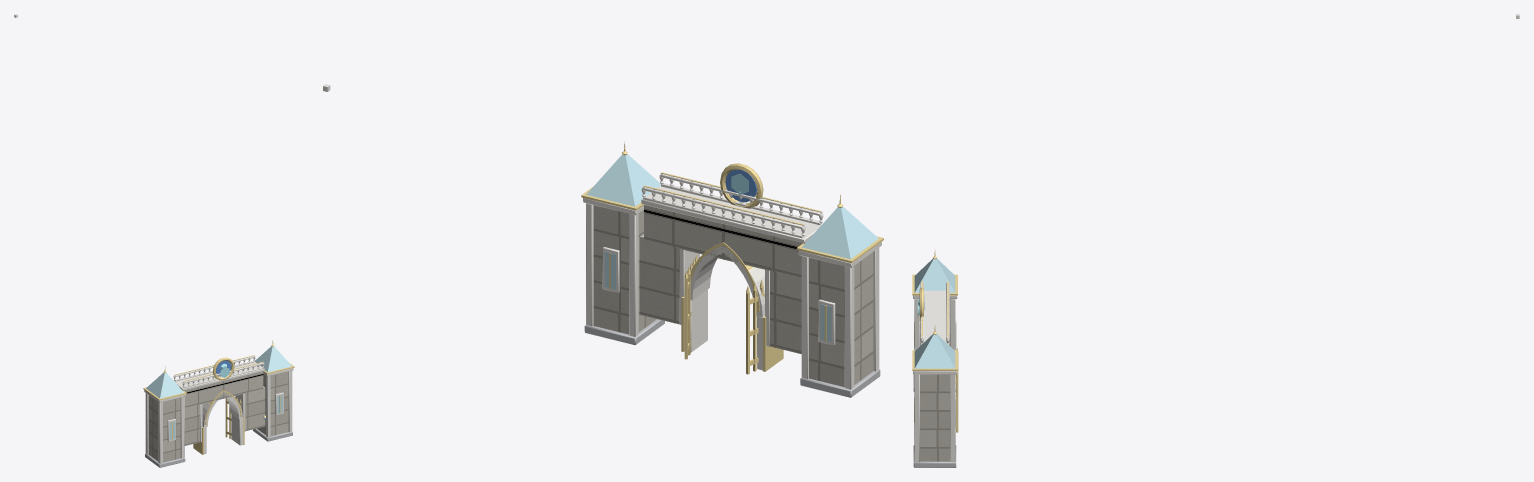
Rendered from LV_PORTAO.fbx.
3 renders of one model, left to right at view 1: azimuth 30°, elevation 25°; view 2: azimuth 150°, elevation 25°; view 3: azimuth 270°, elevation 25°, orthographic. The views are drawn at different scales.
Parts seen in each view (by area): view 1: STONE__portao, MARB__portao, GLASS__portao, GOLD__portao, TRIM__portao; view 2: STONE__portao, MARB__portao, GLASS__portao, GOLD__portao, TRIM__portao; view 3: MARB__portao, STONE__portao, GLASS__portao, GOLD__portao.
Boxes of the visible parts, x1=… form: STONE__portao: x1=148, y1=371, x2=288, y2=462; MARB__portao: x1=144, y1=355, x2=293, y2=463; GLASS__portao: x1=146, y1=346, x2=291, y2=439; GOLD__portao: x1=143, y1=340, x2=294, y2=454; TRIM__portao: x1=145, y1=428, x2=292, y2=467; STONE__portao: x1=593, y1=205, x2=873, y2=386; MARB__portao: x1=583, y1=172, x2=881, y2=389; GLASS__portao: x1=586, y1=154, x2=878, y2=342; GOLD__portao: x1=581, y1=141, x2=883, y2=374; TRIM__portao: x1=584, y1=319, x2=880, y2=397; MARB__portao: x1=913, y1=281, x2=957, y2=462; STONE__portao: x1=920, y1=299, x2=950, y2=461; GLASS__portao: x1=914, y1=258, x2=955, y2=424; GOLD__portao: x1=912, y1=249, x2=958, y2=432.
Size of the model in its own units: 57.8 by 115 by 156.
Materials: 7 (1 with a texture image).
